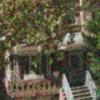stairs: (71, 80, 100, 100)
